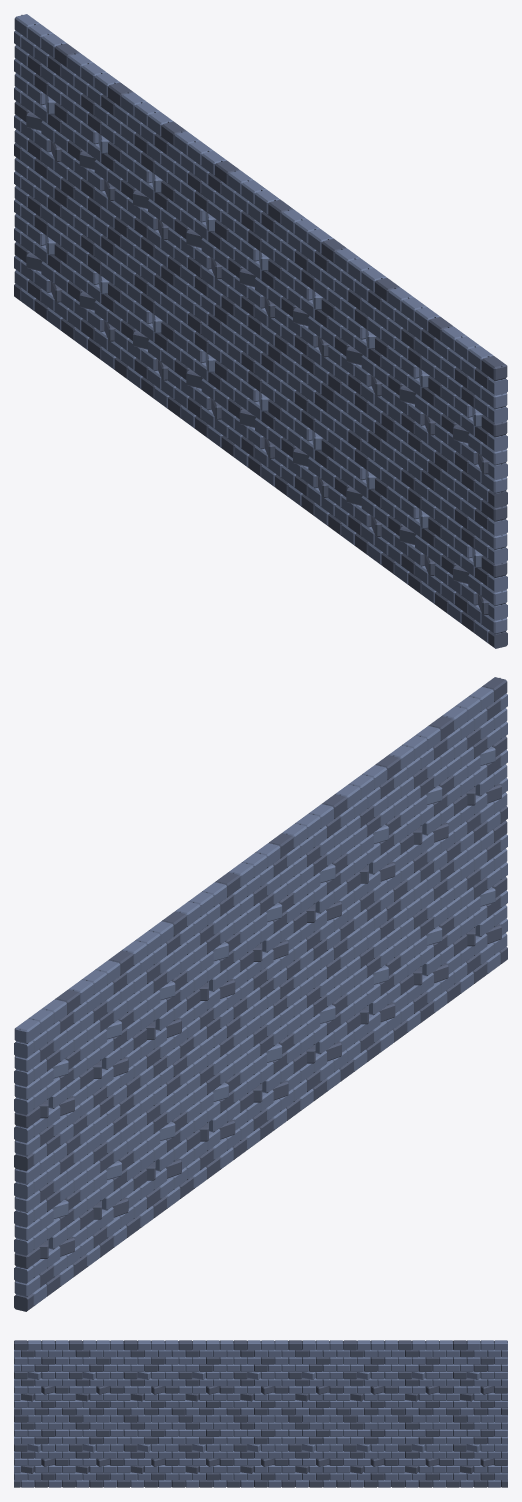
File: wall.fbx
3 renders of one model, top to bottom at view 1: azimuth 30°, elevation 25°; view 2: azimuth 150°, elevation 25°; view 3: azimuth 270°, elevation 25°, orthographic. The views are drawn at different scales.
Parts seen in each view (by area): view 1: brick wall.005; view 2: brick wall.005; view 3: brick wall.005.
Part boxes in pixels (x1,y1,x2,y2): brick wall.005: (14,14,507,648); brick wall.005: (14,677,507,1311); brick wall.005: (14,1340,507,1487).
Bounding box in the file's own units: 50.51 × 613 × 1896.
